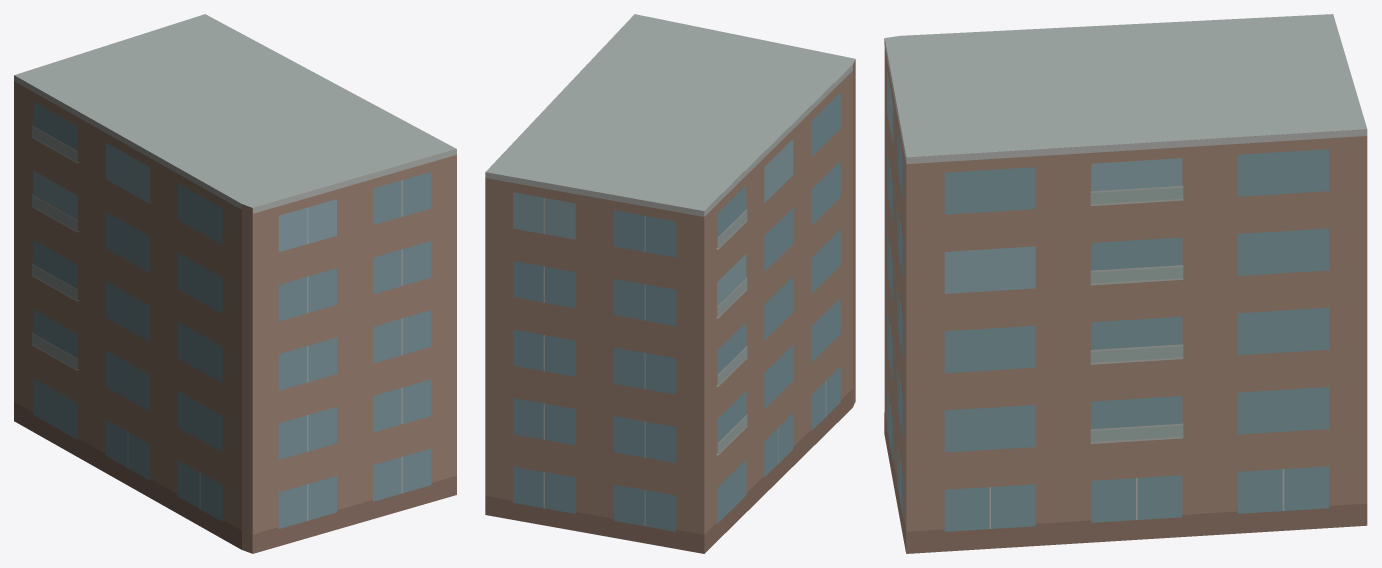
Rendered from survey-upis-32749206.glb.
3 renders of one model, left to right at view 1: azimuth 30°, elevation 25°; view 2: azimuth 150°, elevation 25°; view 3: azimuth 270°, elevation 25°, orthographic. The views are drawn at different scales.
Visible parts, largest first — view 1: survey-upis-32749206.tmp; view 2: survey-upis-32749206.tmp; view 3: survey-upis-32749206.tmp.
Part boxes in pixels (box(x1,y1,x2,y2)): survey-upis-32749206.tmp: box(14, 14, 456, 553); survey-upis-32749206.tmp: box(485, 14, 855, 553); survey-upis-32749206.tmp: box(884, 14, 1367, 553).
Bounding box in the file's own units: 11.11 × 14.3 × 15.79.
